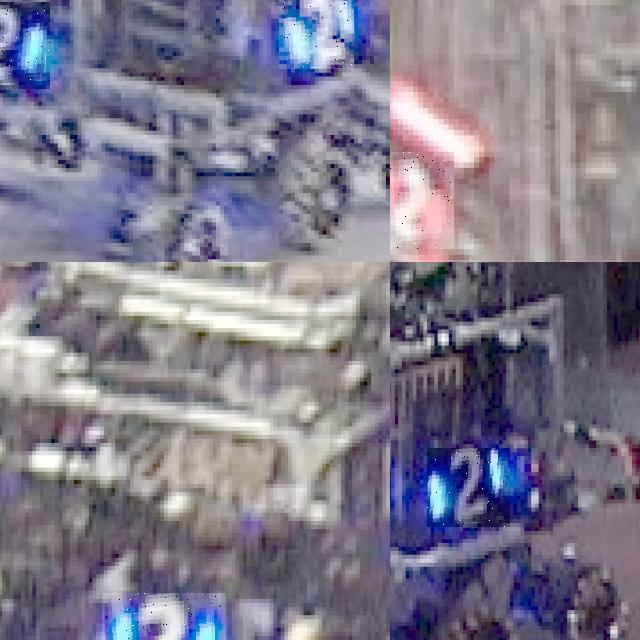B2: (427, 448, 510, 527), (102, 592, 226, 640), (279, 0, 354, 68), (0, 1, 49, 89)
R2: (390, 151, 453, 249)
